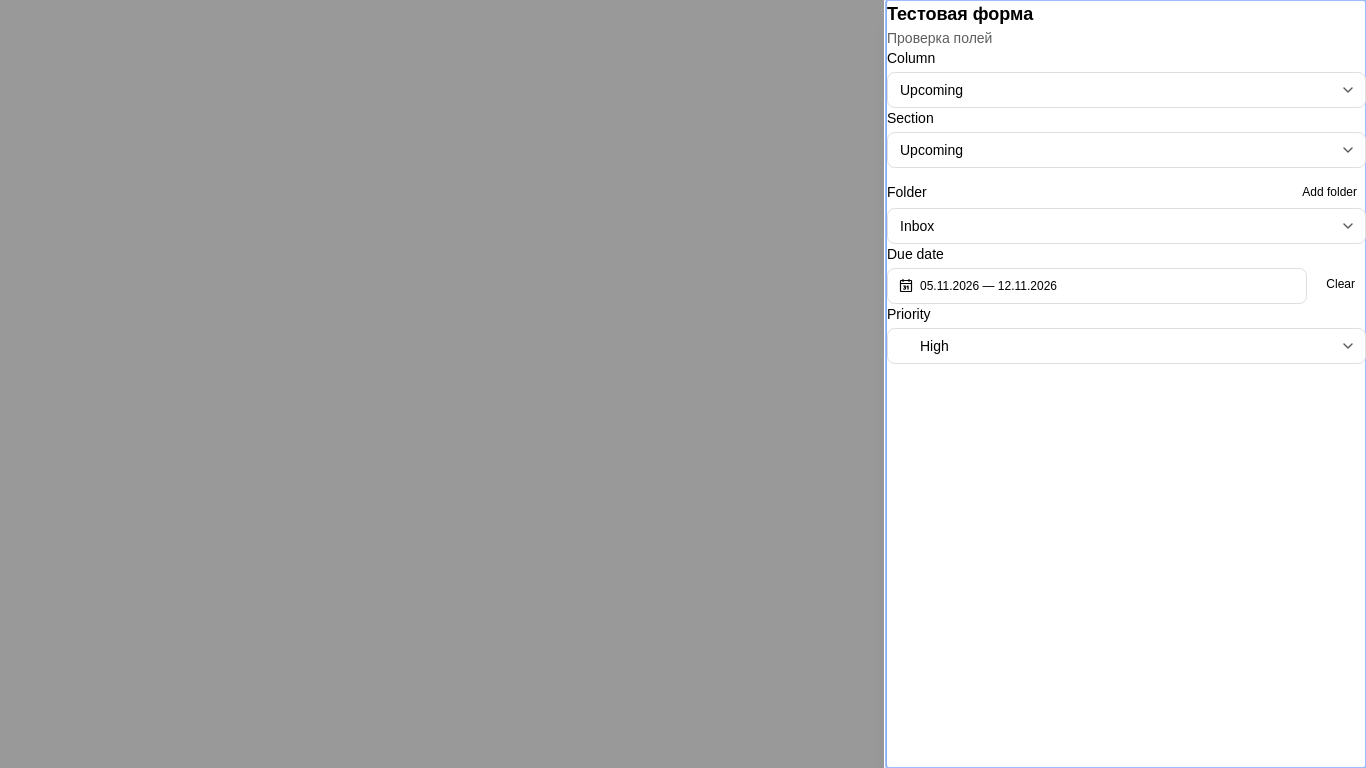
board modal schedule fields › filters folders after selecting a task section
The image size is (1366, 768).
Select "In progress" in the dropdown named "Section" at point(1126, 150), box [887,132,1365,168]
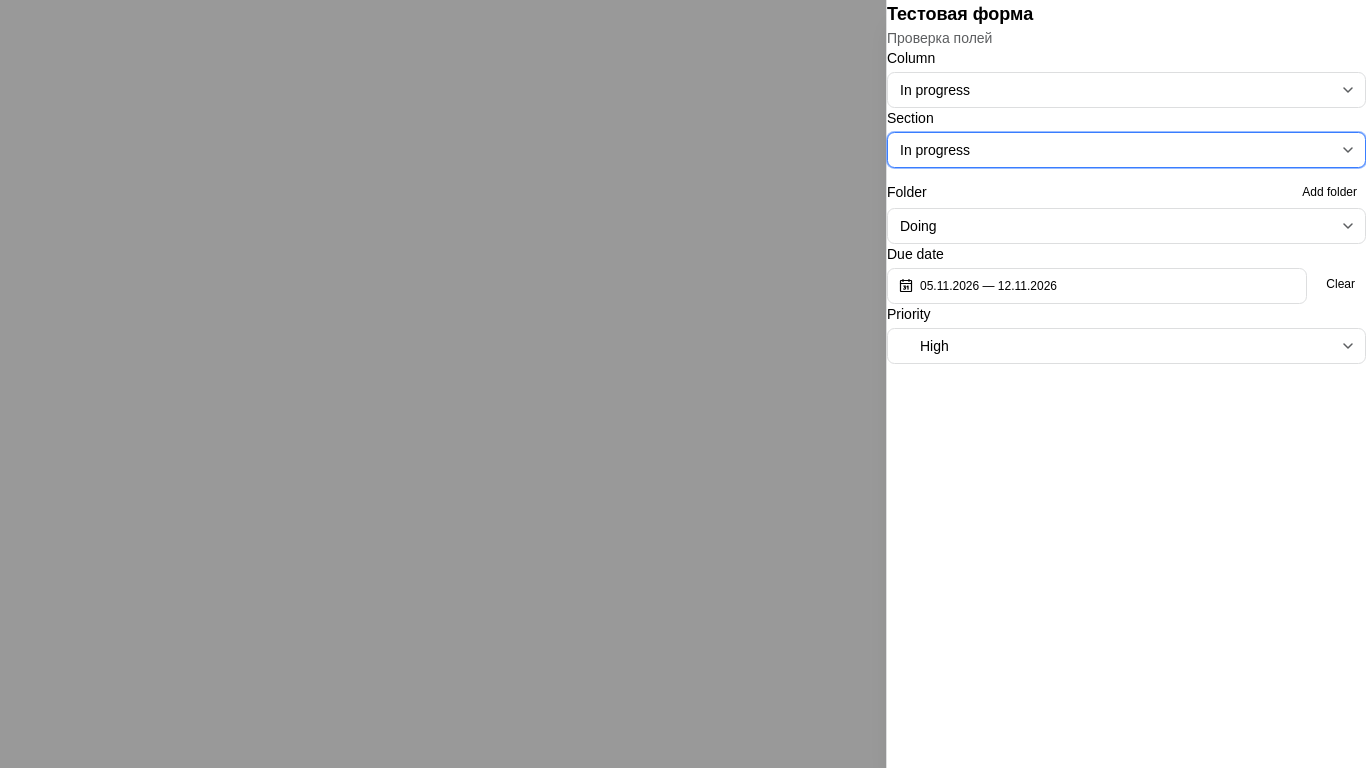
Result: the dropdown named "Folder" shows "Doing" at [887,208,1365,244]
